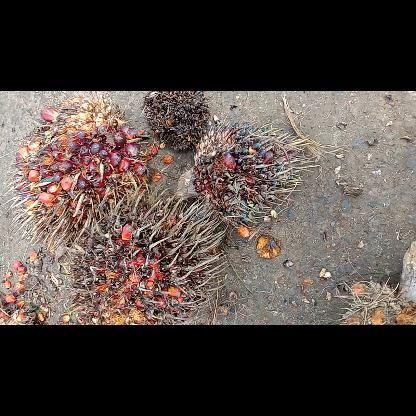TBS abnormal: (174, 122, 320, 233), (140, 90, 210, 152)
TBS masak: (10, 95, 154, 251)
Terlalu masak: (69, 192, 231, 324)
